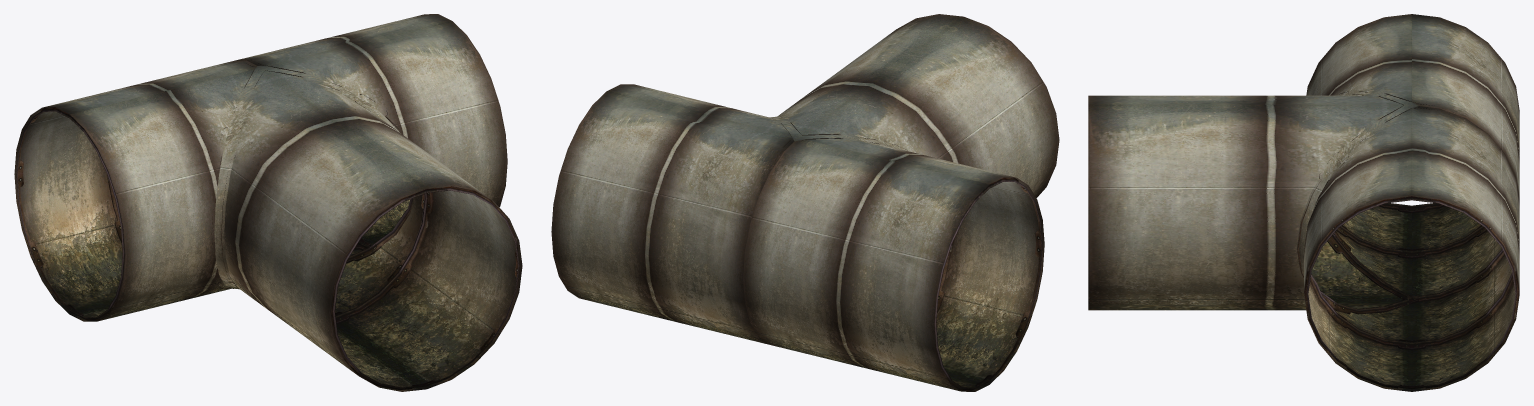
Rendered from flush_tunnel_02_07_3way.dae.
3 renders of one model, left to right at view 1: azimuth 30°, elevation 25°; view 2: azimuth 150°, elevation 25°; view 3: azimuth 270°, elevation 25°, orthographic. The views are drawn at different scales.
Visible parts, largest first — view 1: polySurface807; view 2: polySurface807; view 3: polySurface807.
Part boxes in pixels (bbox=[...]): polySurface807: bbox=[14, 14, 522, 391]; polySurface807: bbox=[551, 14, 1059, 391]; polySurface807: bbox=[1088, 14, 1519, 391].
Bounding box in the file's own units: 8 × 4.01 × 8.
